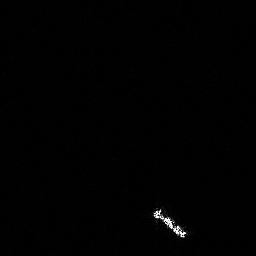ship: (152, 209, 186, 238)
